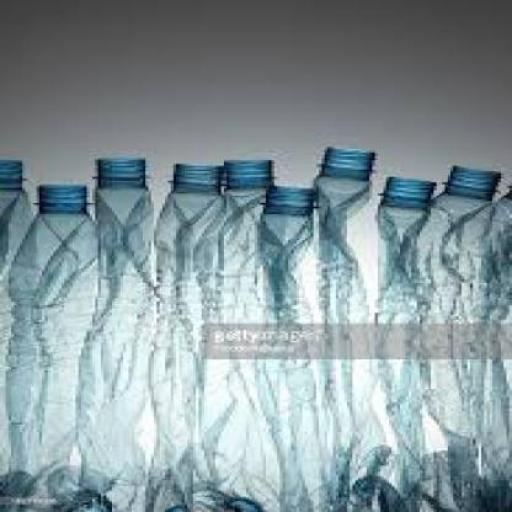plastic: (8, 184, 98, 510), (152, 158, 226, 510), (245, 187, 322, 510), (86, 156, 154, 511), (442, 180, 509, 510), (368, 177, 434, 510), (313, 144, 361, 510), (426, 166, 496, 268), (0, 157, 34, 281), (221, 158, 274, 205)
